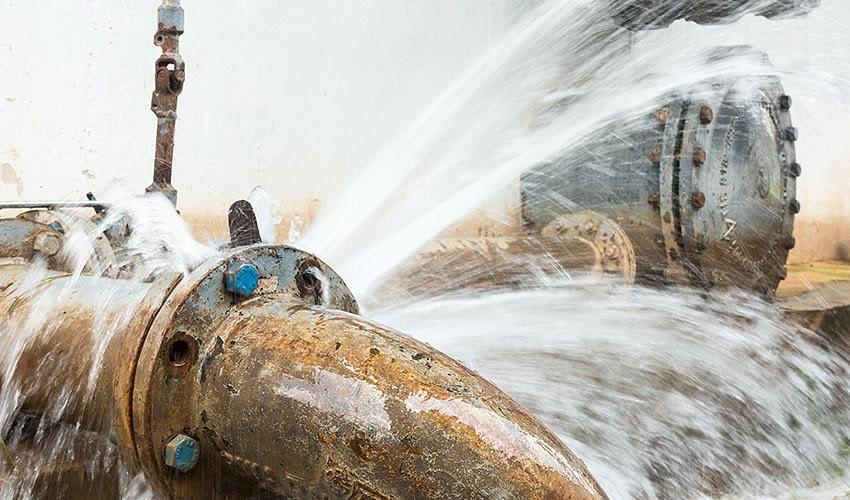pipe burst: (275, 0, 850, 500), (0, 189, 219, 500)
